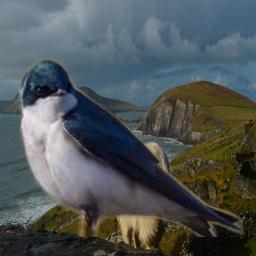Swallow: (18, 58, 244, 237)
